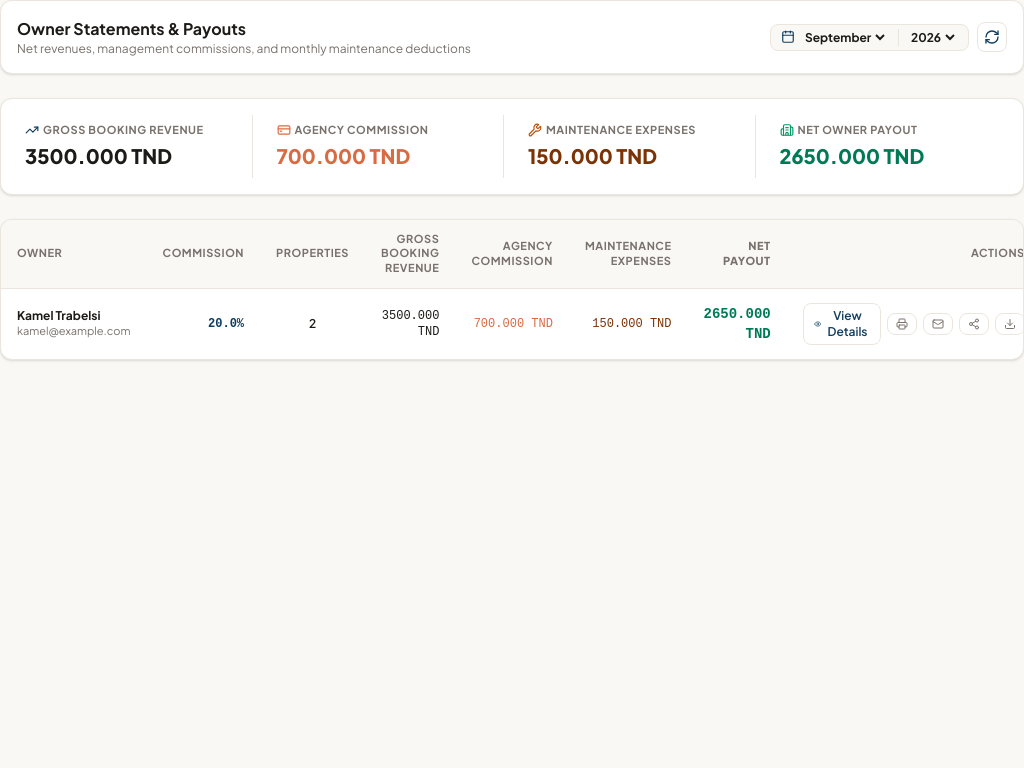
OwnerStatementsView Component › opens detailed itemized statement modal on click
Expected: the text "Kamel Trabelsi" is shown, [17,308,100,323]
Click the button "View Details" at (842, 324), box [803,303,881,345]
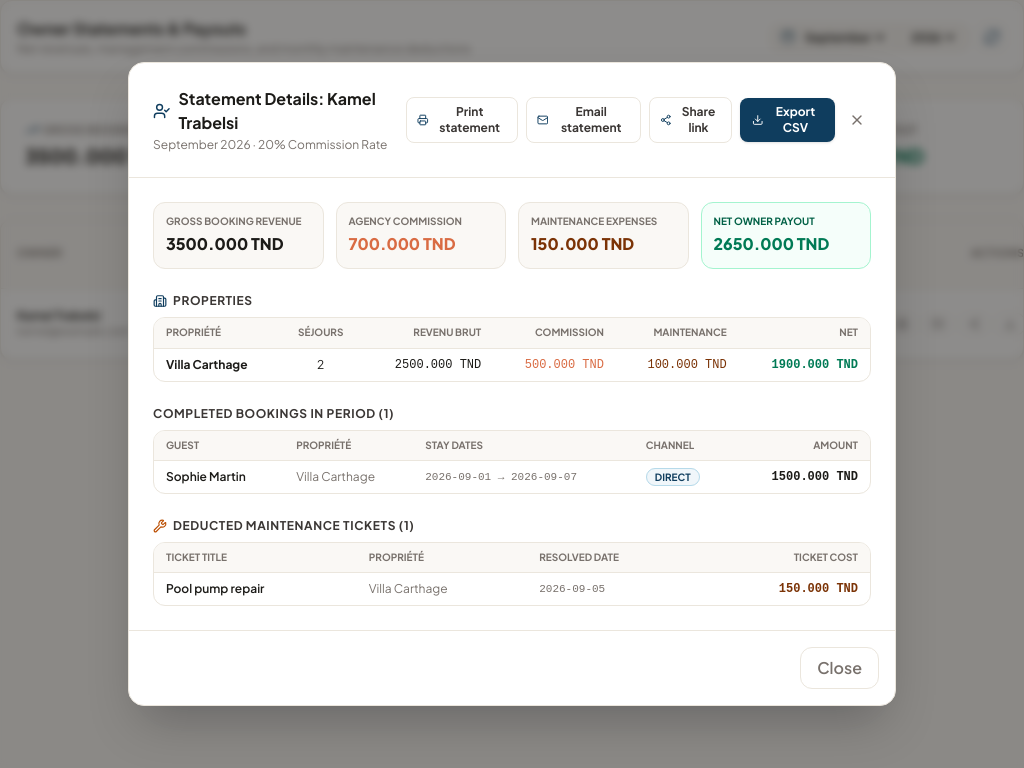
Expected: the heading "Statement Details: Kamel Trabelsi" is shown, [153,87,406,135]
Expected: the text "Sophie Martin" is shown, [154,460,284,493]
Expected: the text "Pool pump repair" is shown, [154,573,357,605]
Click the button "Close" at (840, 668), box [800,647,879,689]
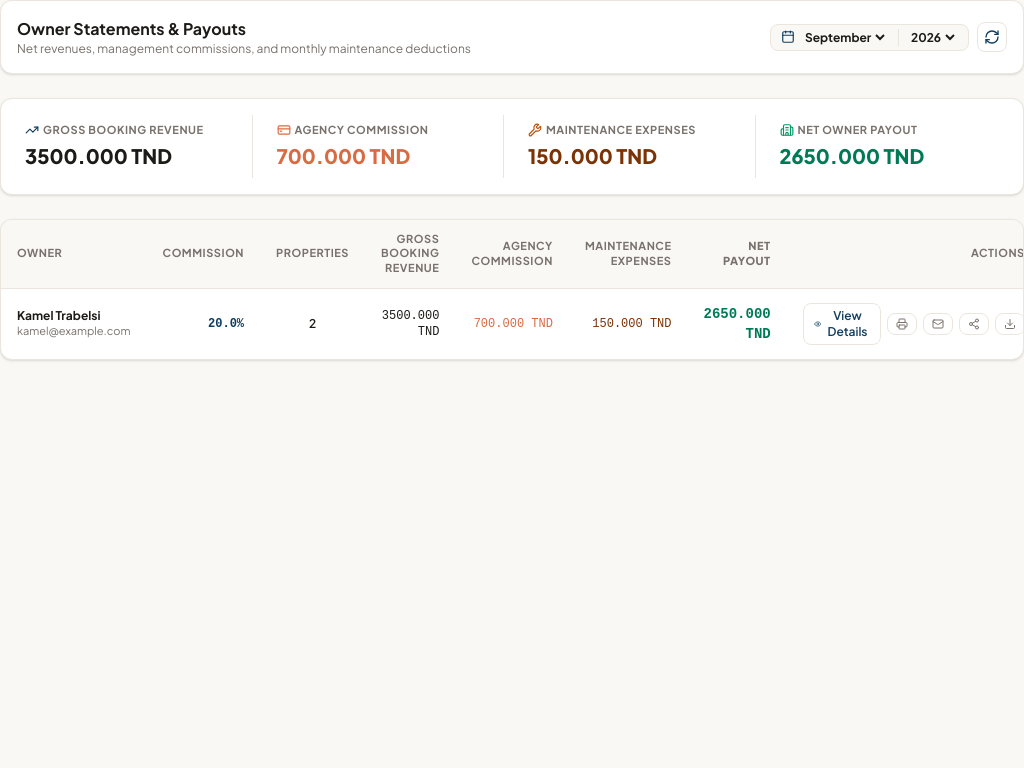
Expected: the heading "Statement Details: Kamel Trabelsi" is gone
